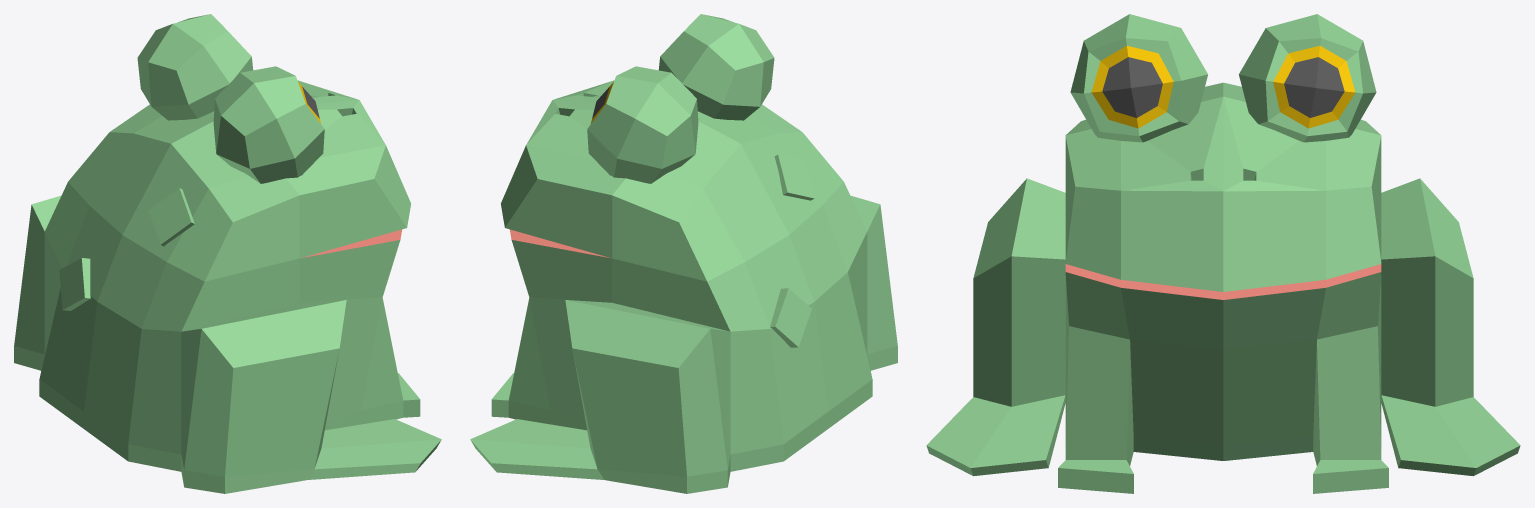
The model's file is Frog_01.gltf.
The picture shows the model from 3 angles, left to right: view 1: azimuth 30°, elevation 25°; view 2: azimuth 150°, elevation 25°; view 3: azimuth 270°, elevation 25°; orthographic projection. The views are drawn at different scales.
Parts seen in each view (by area): view 1: node-0; view 2: node-0; view 3: node-0.
Part boxes in pixels (left/top/right/bottom): node-0: left=14, top=14, right=441, bottom=493; node-0: left=470, top=14, right=897, bottom=493; node-0: left=926, top=14, right=1520, bottom=493.
Bounding box in the file's own units: 12.88 × 13.88 × 18.81.
